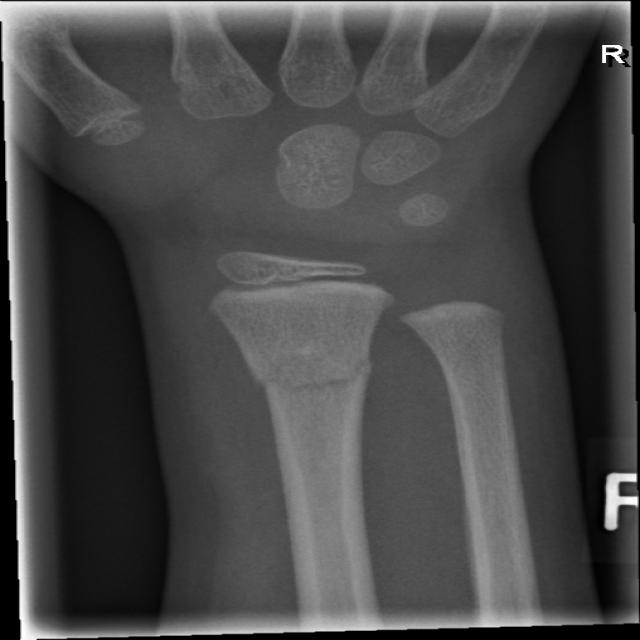radius fracture: (241, 332, 404, 442)
